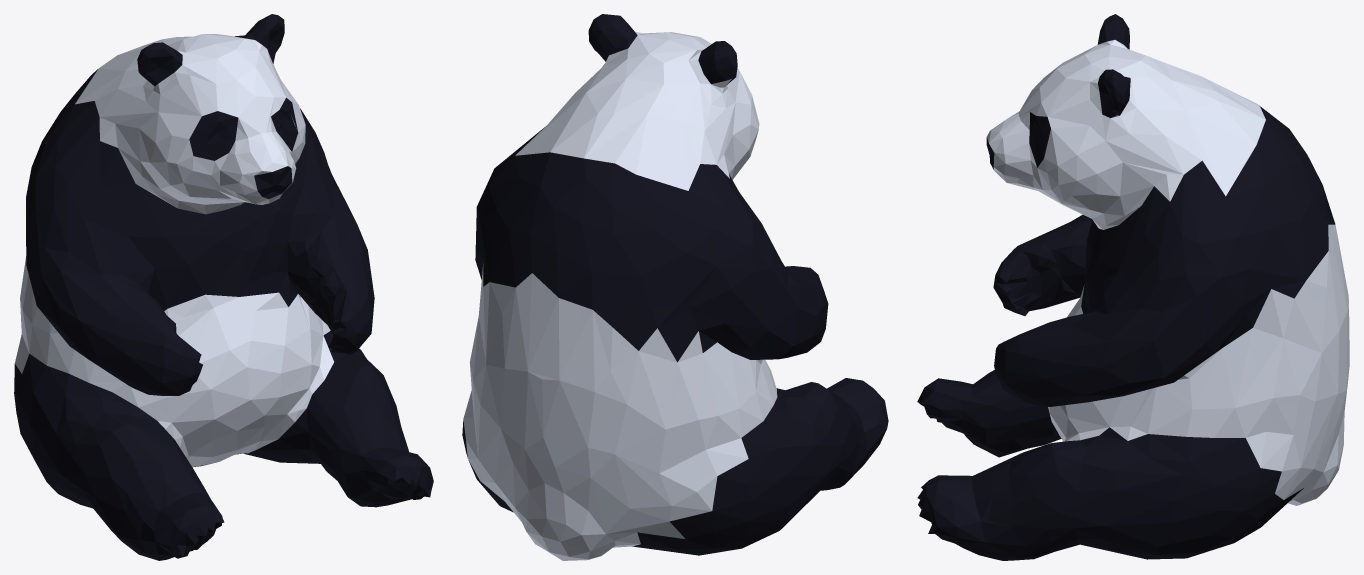
The model's file is panda.fbx.
3 renders of one model, left to right at view 1: azimuth 30°, elevation 25°; view 2: azimuth 150°, elevation 25°; view 3: azimuth 270°, elevation 25°, orthographic.
Parts seen in each view (by area): view 1: 11509_Panda_v4; view 2: 11509_Panda_v4; view 3: 11509_Panda_v4.
Boxes of the visible parts, left/top/right/bottom form: 11509_Panda_v4: left=14, top=14, right=433, bottom=560; 11509_Panda_v4: left=462, top=14, right=888, bottom=560; 11509_Panda_v4: left=917, top=14, right=1349, bottom=560.
Size of the model in its own units: 76.27 by 109 by 92.
